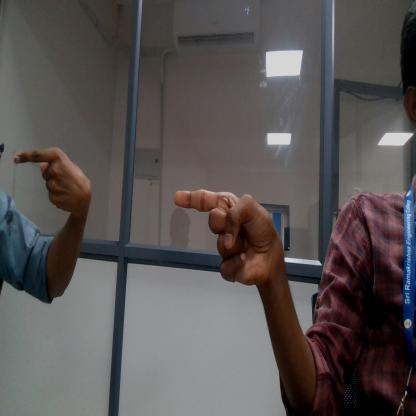Right: (173, 180, 268, 294), (10, 138, 96, 222)
